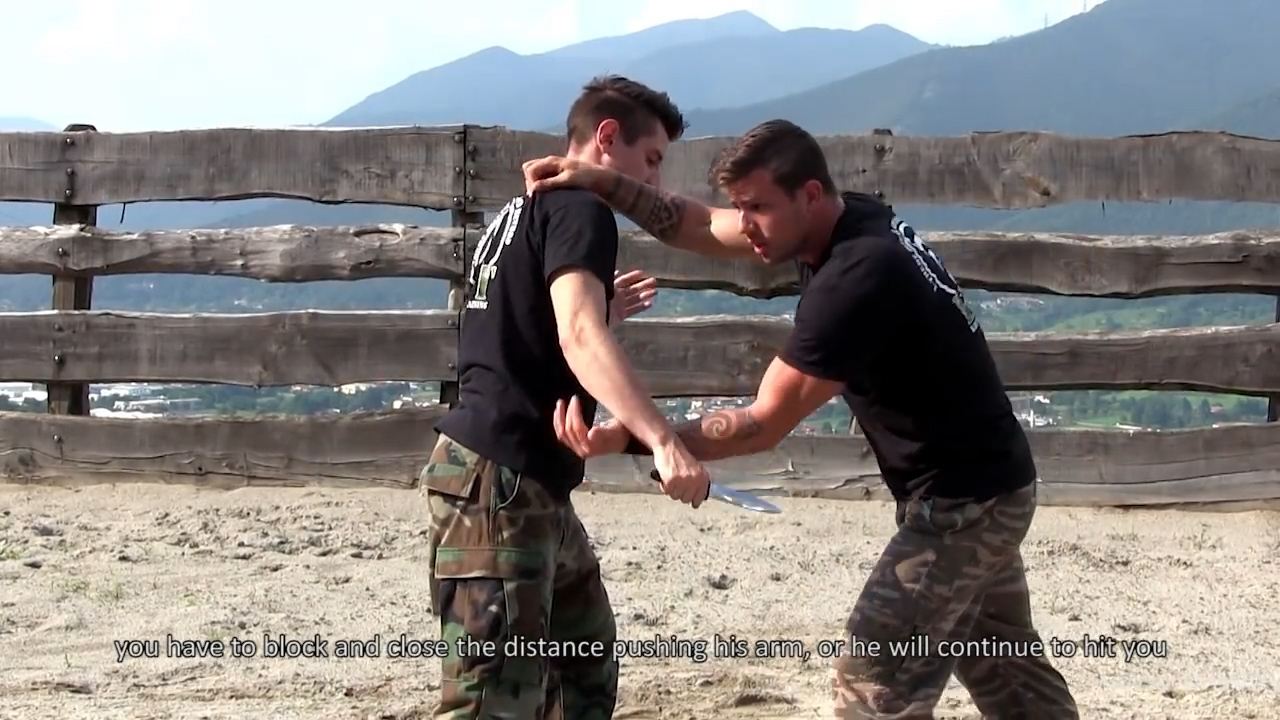knife: (641, 457, 793, 523)
